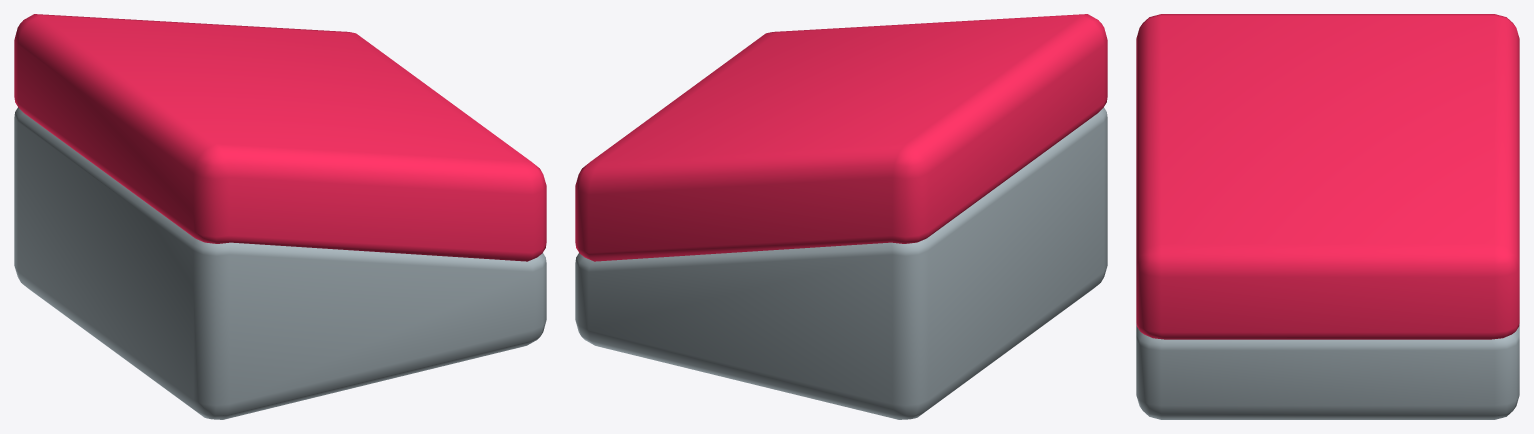
The model's file is tileSlopeLowMedium__teamRed-col.glb.
The picture shows the model from 3 angles, left to right: view 1: azimuth 30°, elevation 25°; view 2: azimuth 150°, elevation 25°; view 3: azimuth 270°, elevation 25°; orthographic projection. The views are drawn at different scales.
Visible parts, largest first — view 1: tileSlopeLowMedium._teamRed-col; view 2: tileSlopeLowMedium._teamRed-col; view 3: tileSlopeLowMedium._teamRed-col.
Part boxes in pixels (bbox=[...]): tileSlopeLowMedium._teamRed-col: bbox=[14, 14, 546, 419]; tileSlopeLowMedium._teamRed-col: bbox=[575, 14, 1107, 419]; tileSlopeLowMedium._teamRed-col: bbox=[1136, 14, 1519, 419].
Size of the model in its own units: 2 by 1.5 by 2.
